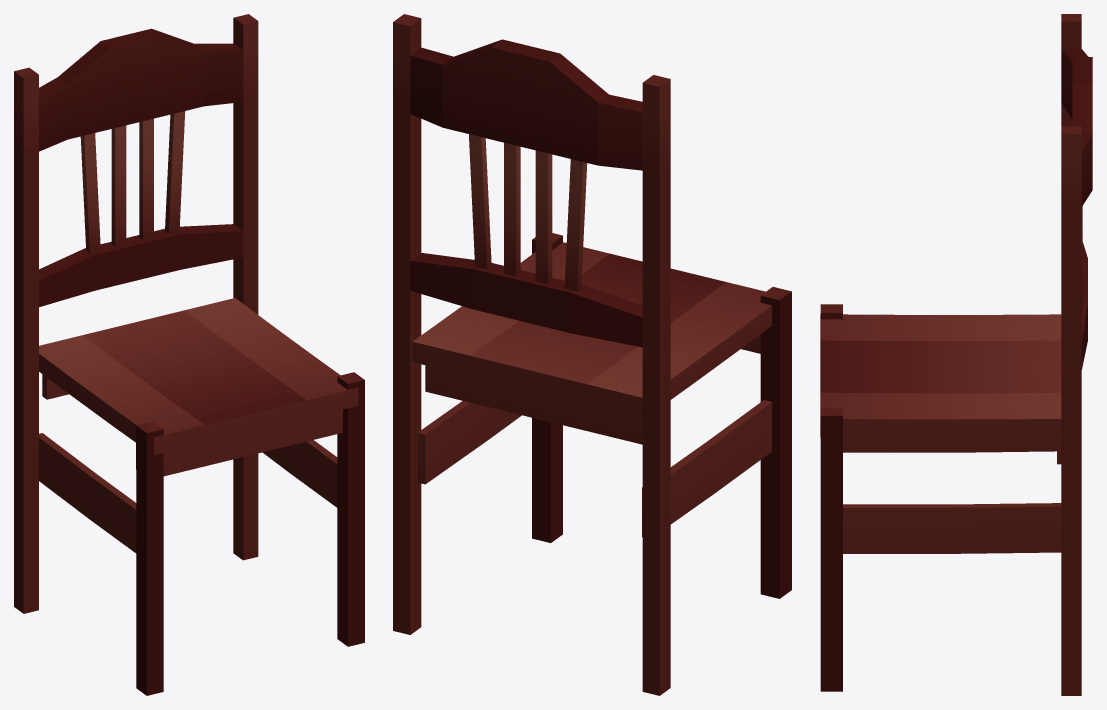
The model's file is SM_WoodenChair_01.fbx.
3 views of the same model, side by side, from view 1: azimuth 30°, elevation 25°; view 2: azimuth 150°, elevation 25°; view 3: azimuth 270°, elevation 25° (orthographic). The views are drawn at different scales.
Visible parts, largest first — view 1: SM_WoodenChair_01; view 2: SM_WoodenChair_01; view 3: SM_WoodenChair_01.
Boxes of the visible parts, left/top/right/bottom form: SM_WoodenChair_01: left=14, top=14, right=364, bottom=695; SM_WoodenChair_01: left=393, top=14, right=791, bottom=695; SM_WoodenChair_01: left=820, top=14, right=1092, bottom=695.
Size of the model in its own units: 0.5604 by 1.23 by 0.5377.
